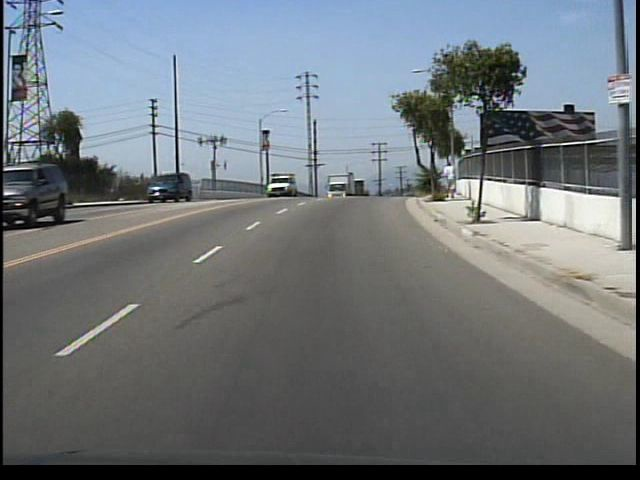person: (442, 159, 460, 202)
